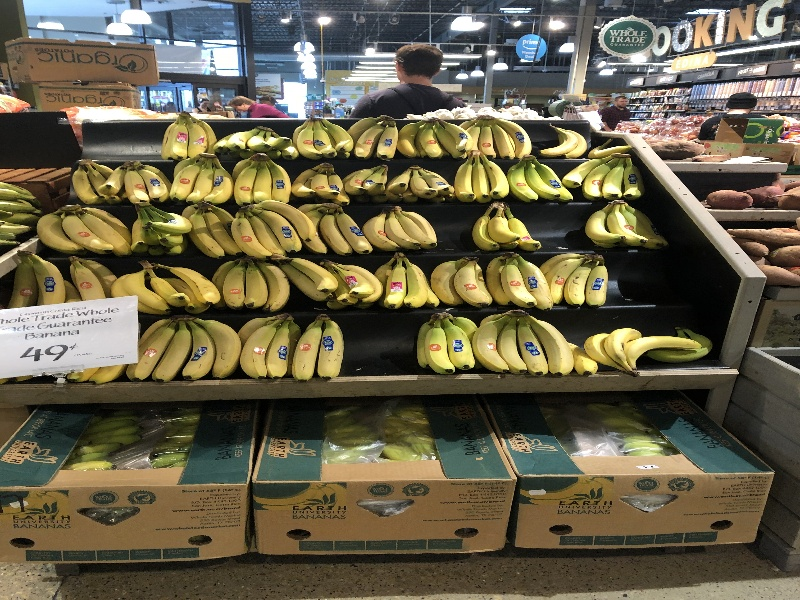void: (342, 312, 422, 377), (77, 115, 164, 163), (610, 250, 686, 301), (531, 197, 594, 247)
